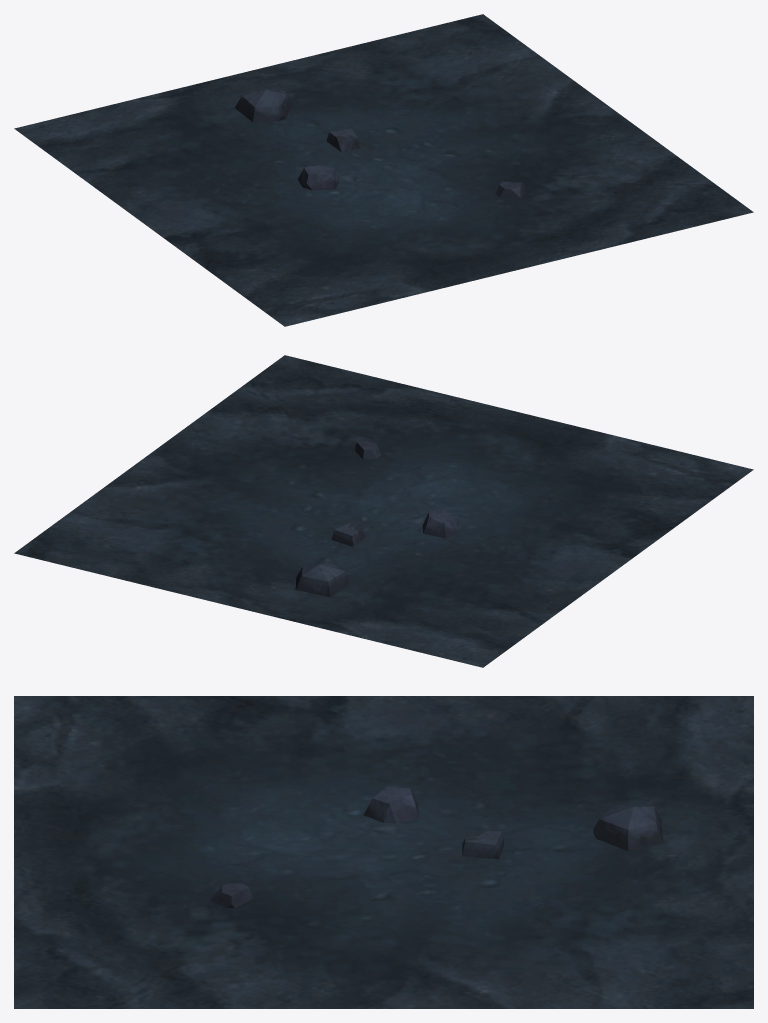
The model's file is mine_rubble_07.fbx.
The picture shows the model from 3 angles, top to bottom: view 1: azimuth 30°, elevation 25°; view 2: azimuth 150°, elevation 25°; view 3: azimuth 270°, elevation 25°; orthographic projection. The views are drawn at different scales.
Parts seen in each view (by area): view 1: obj1.041; view 2: obj1.041; view 3: obj1.041.
Boxes of the visible parts, x1=… form: obj1.041: x1=14, y1=14, x2=753, y2=326; obj1.041: x1=14, y1=355, x2=753, y2=667; obj1.041: x1=14, y1=696, x2=753, y2=1008.
Size of the model in its own units: 4 by 0.217 by 4.
